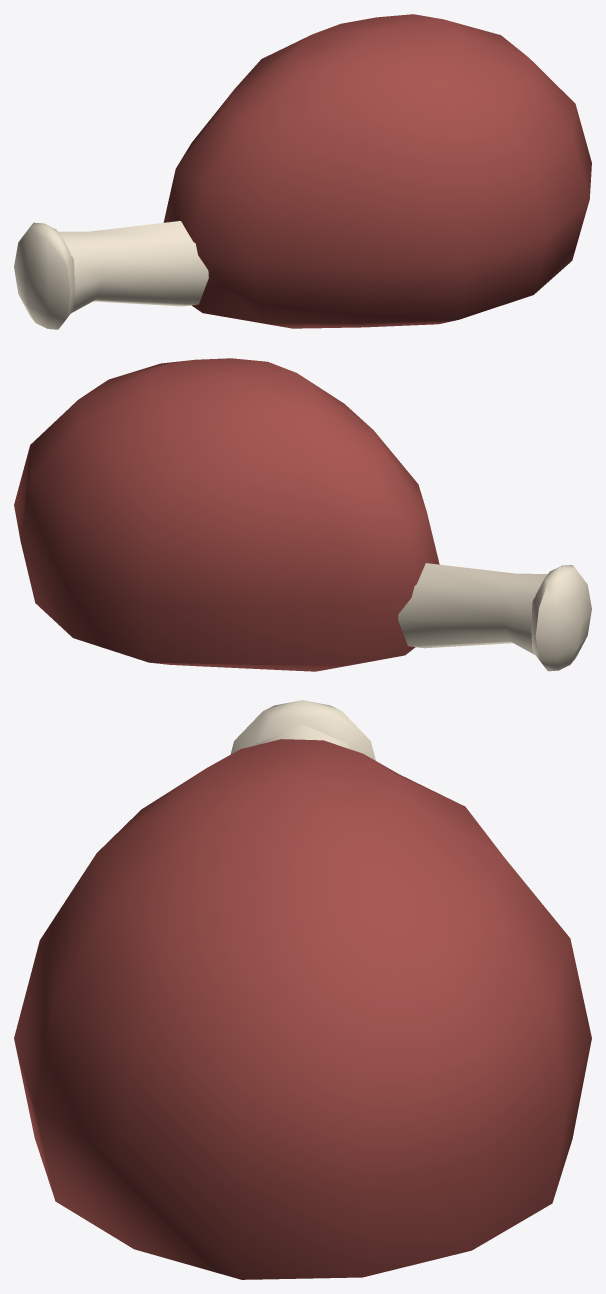
The model's file is heath_grouse_thigh.glb.
3 renders of one model, top to bottom at view 1: azimuth 30°, elevation 25°; view 2: azimuth 150°, elevation 25°; view 3: azimuth 270°, elevation 25°, orthographic. The views are drawn at different scales.
Visible parts, largest first — view 1: heath_grouse_thigh; view 2: heath_grouse_thigh; view 3: heath_grouse_thigh.
Part boxes in pixels (box(x1,y1,x2,y2)): heath_grouse_thigh: box(14, 14, 591, 329); heath_grouse_thigh: box(14, 358, 591, 671); heath_grouse_thigh: box(14, 700, 591, 1279).
Bounding box in the file's own units: 0.07 × 0.03 × 0.04.
